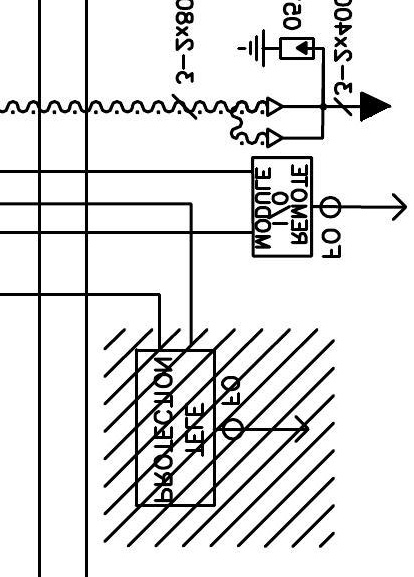115_la: (236, 28, 316, 68)
remote_io_module: (249, 154, 315, 260)
tele_protection: (132, 347, 218, 510)
terminator_double: (265, 95, 325, 150)
